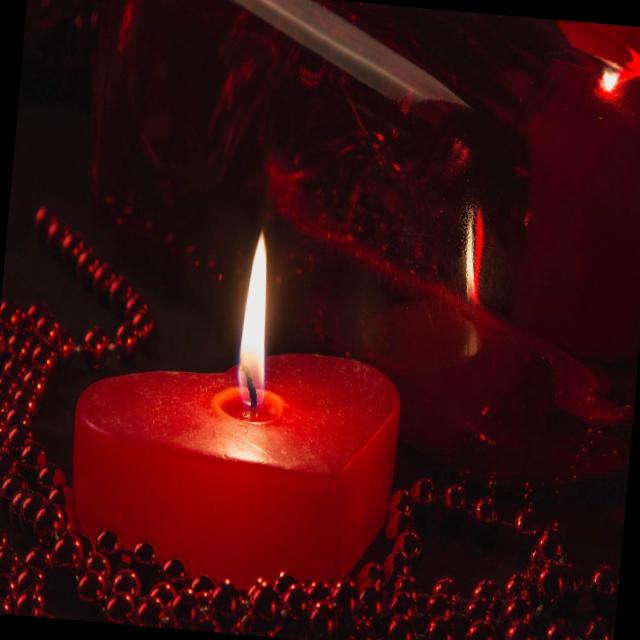Fire_Save: (59, 212, 416, 600)
